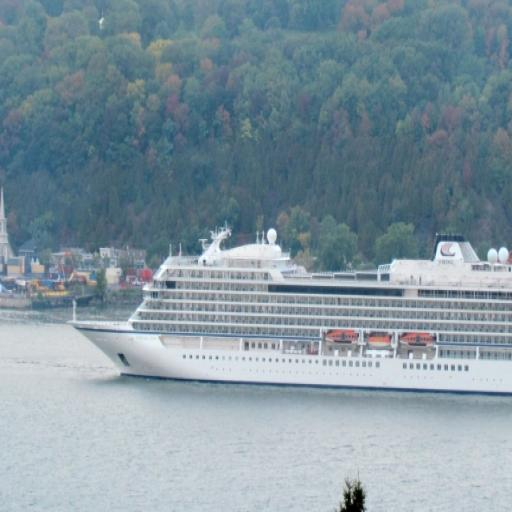cruises: (63, 219, 512, 414)
